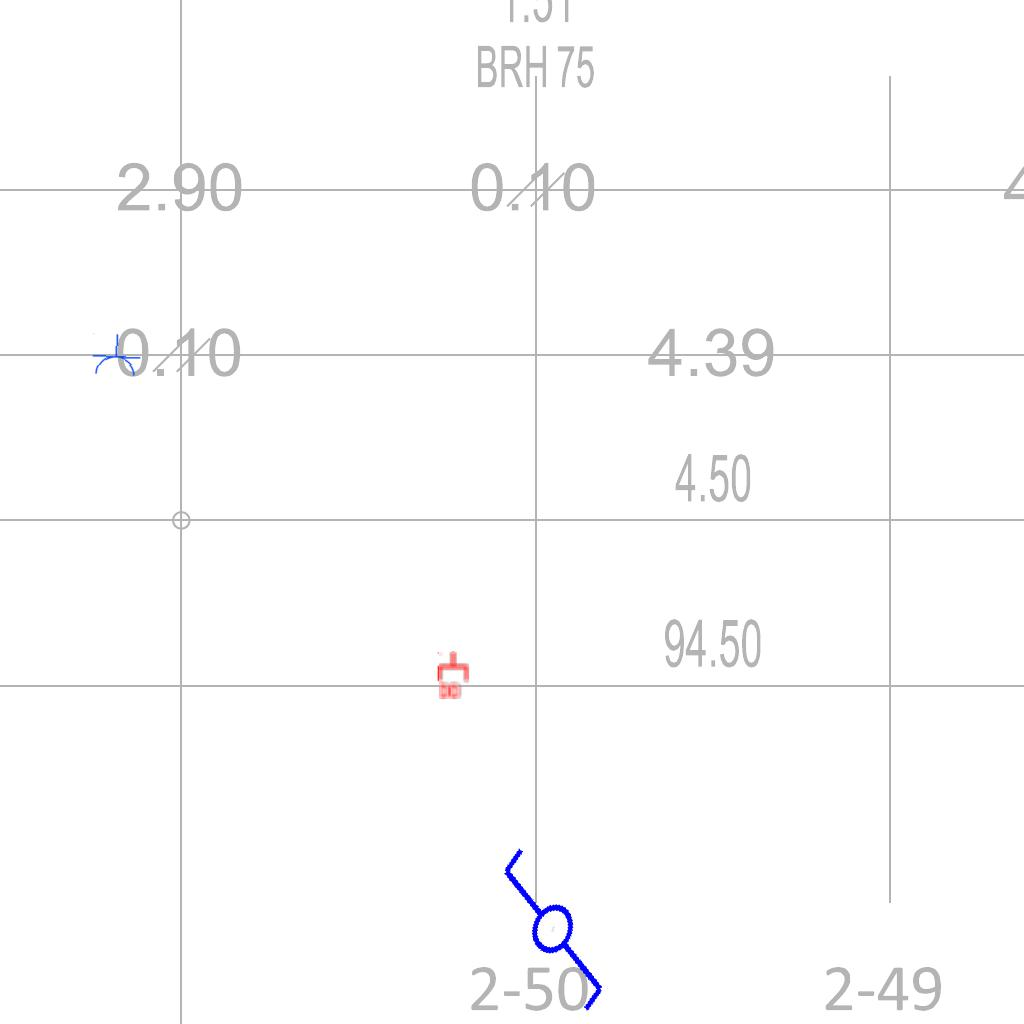Datenanschluss_zweifach: (437, 650, 471, 701)
Schukosteckdose_einfach: (89, 332, 143, 379)
Wechselschalter: (463, 824, 652, 1020)
